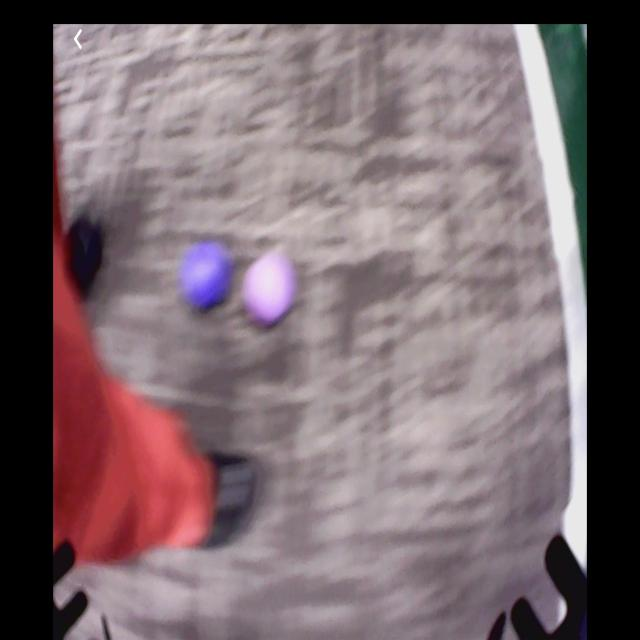ball: (244, 253, 293, 327), (185, 247, 227, 312)
